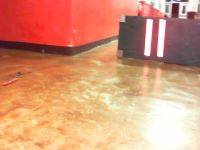switch: (157, 19, 166, 57), (144, 19, 153, 56)
